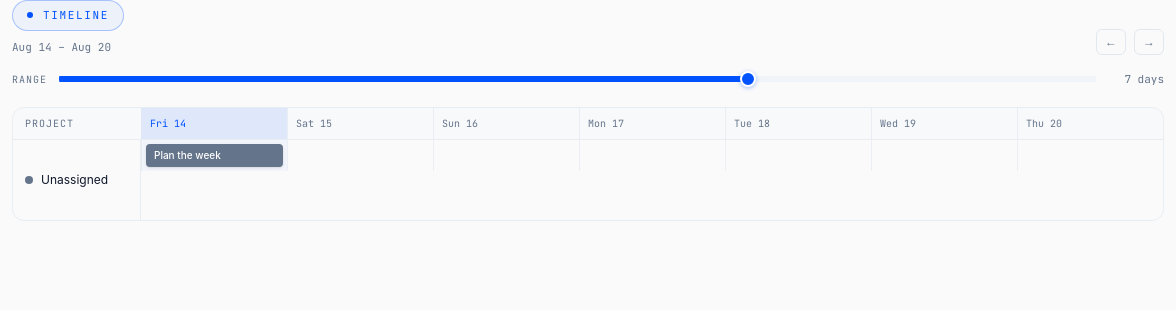
it: Today dashboard timeline › collects untimed work in an unscheduled strip
expect the button "Plan the week" is shown: met, box [146,144,283,167]
Set the slider named "Timeline range" to "0" at point(67, 79), box [59,67,1096,91]
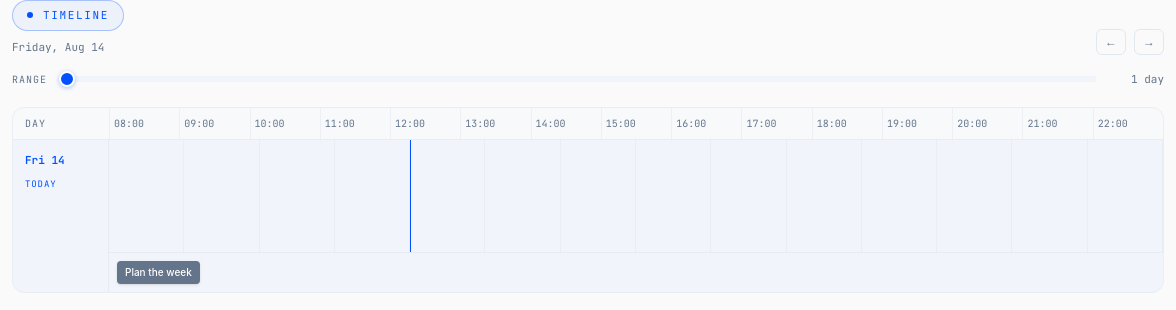
expect the element named "Unscheduled tasks for 2026-08-14" is shown: met, box [109,252,1163,292]
